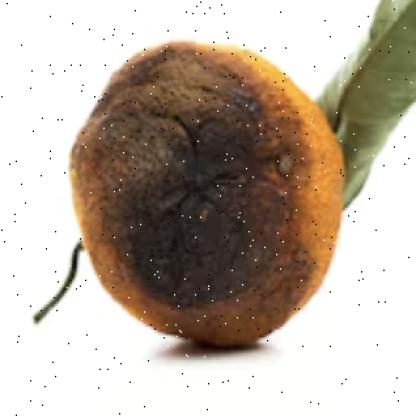rotten: (66, 43, 344, 345)
